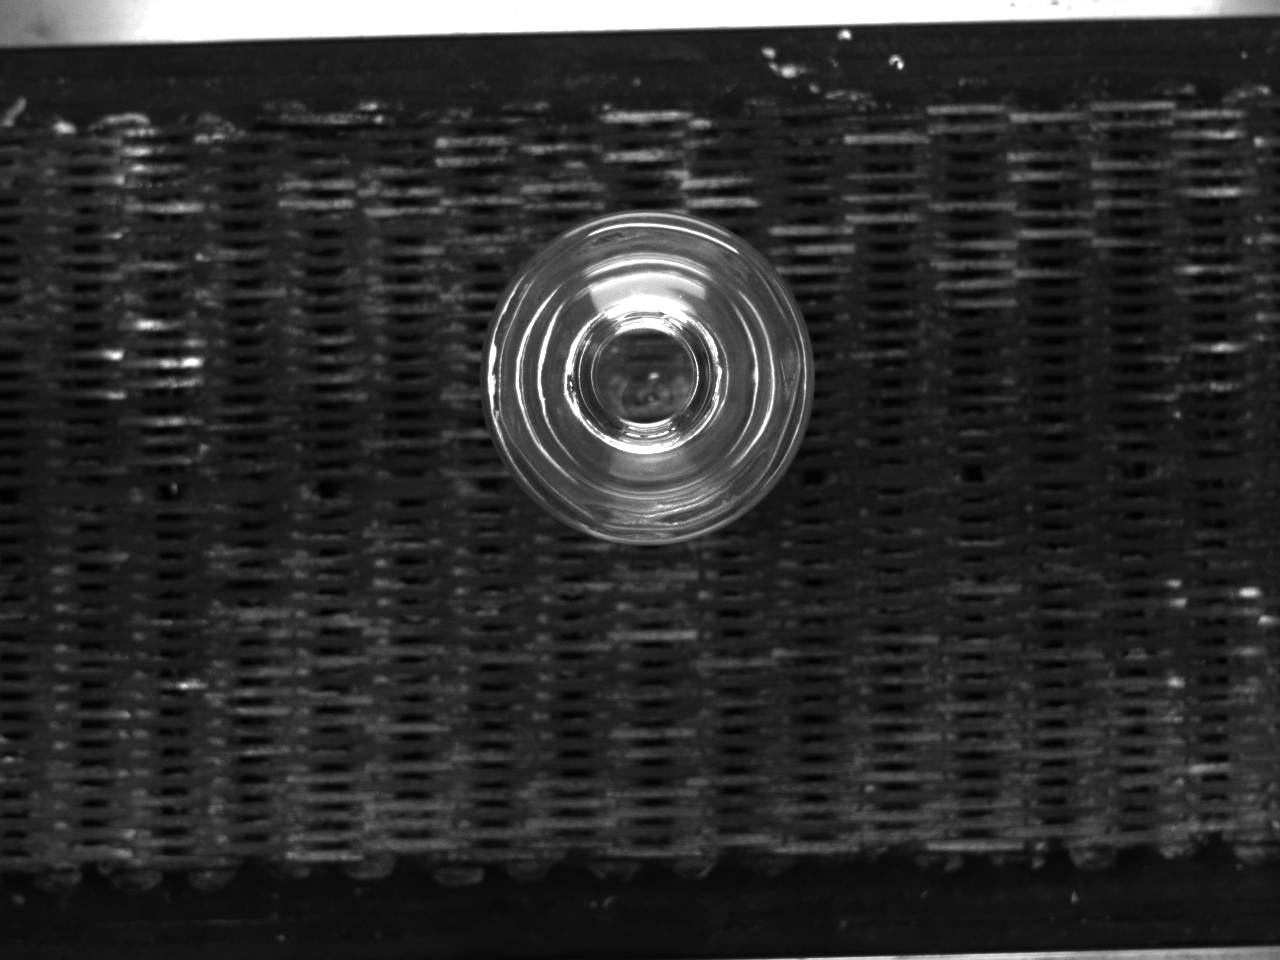bottleneck: (570, 303, 722, 453)
